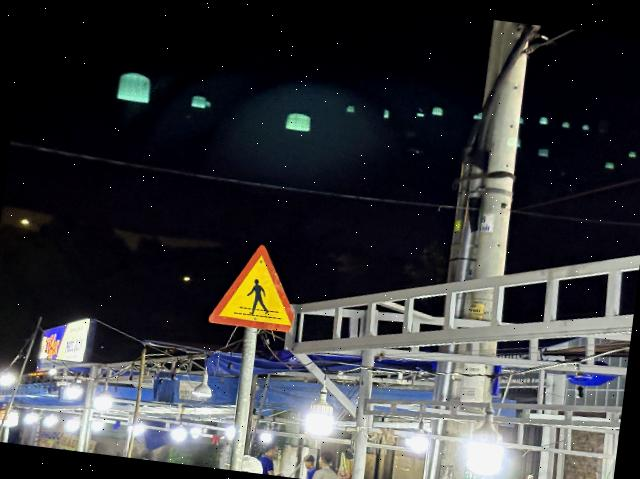duong-nguoi-di-bo-cat-ngang: (208, 238, 302, 332)
